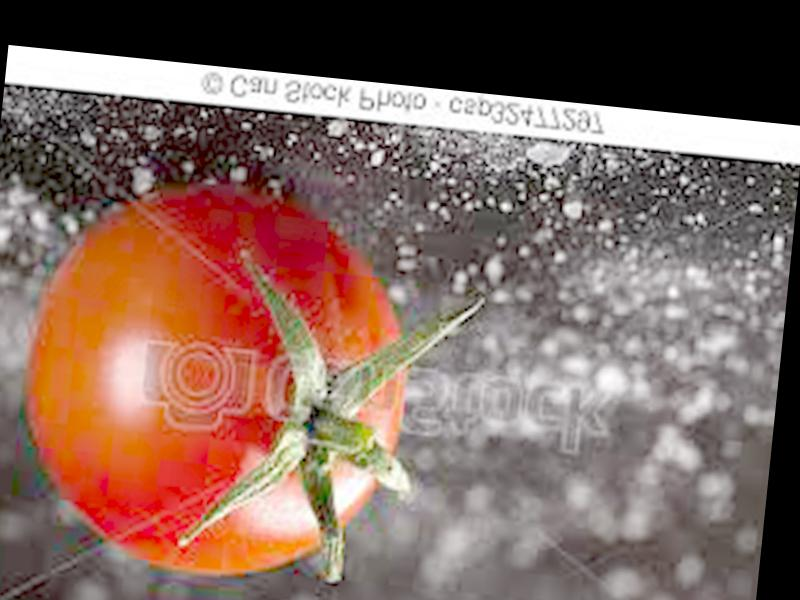Tomato: (8, 172, 424, 593)
